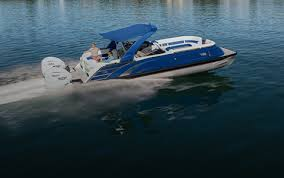boat: (41, 21, 237, 95)
